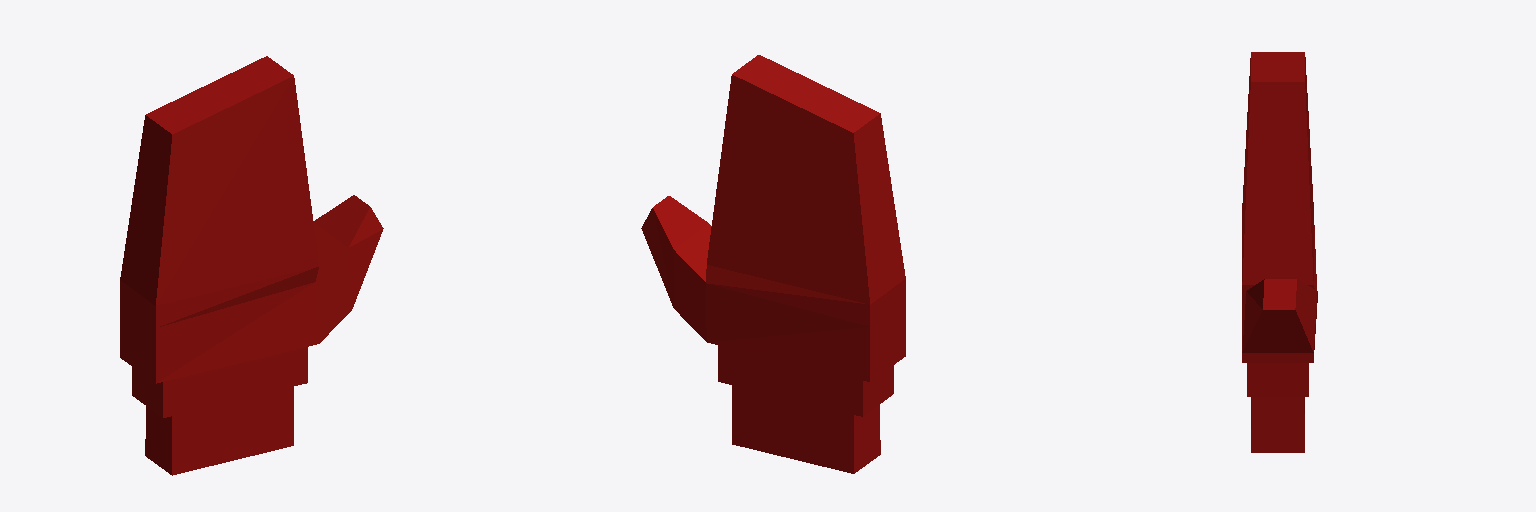
File: lefthand.obj
3 views of the same model, side by side, from view 1: azimuth 30°, elevation 25°; view 2: azimuth 150°, elevation 25°; view 3: azimuth 270°, elevation 25° (orthographic).
Visible parts, largest first — view 1: Cube; view 2: Cube; view 3: Cube.
Boxes of the visible parts, box(x1,y1,x2,y2) form: Cube: box(120, 56, 383, 475); Cube: box(641, 55, 905, 473); Cube: box(1242, 52, 1317, 452).
Size of the model in its own units: 4.78 by 7.1 by 1.31.